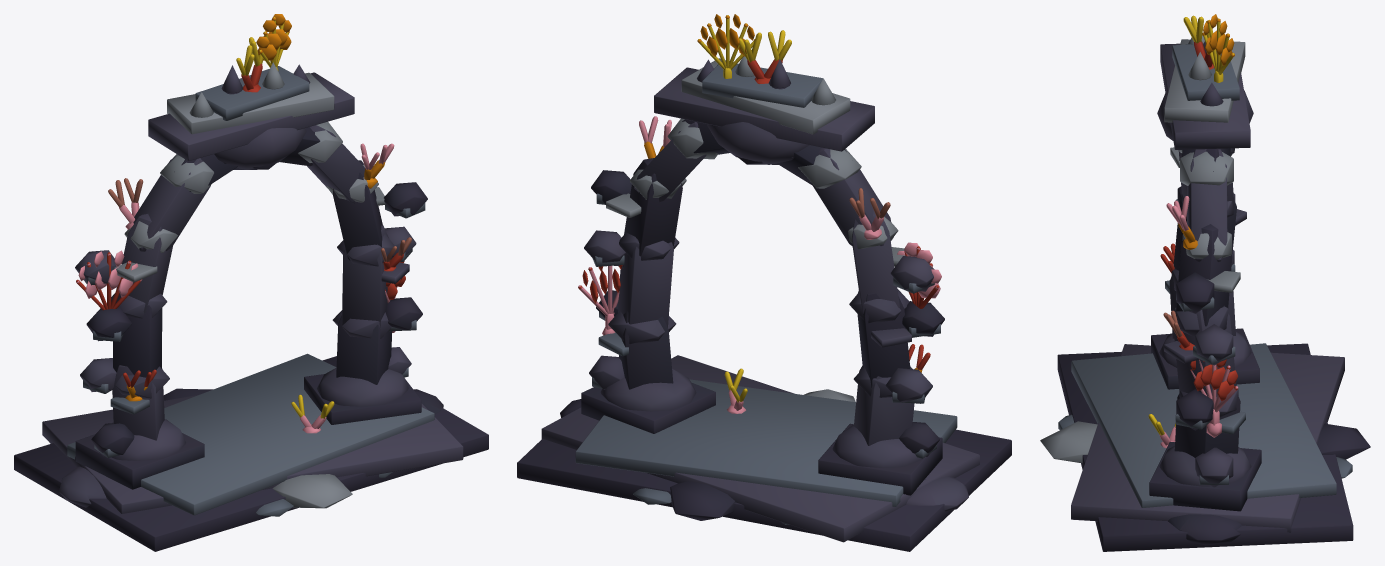
File: coral_arch.glb
3 views of the same model, side by side, from view 1: azimuth 30°, elevation 25°; view 2: azimuth 150°, elevation 25°; view 3: azimuth 270°, elevation 25° (orthographic). The views are drawn at different scales.
Parts seen in each view (by area): view 1: coral_arch; view 2: coral_arch; view 3: coral_arch.
Part boxes in pixels (<box>): coral_arch: <box>14,14,488,551</box>; coral_arch: <box>517,14,1011,551</box>; coral_arch: <box>1040,14,1370,551</box>.
Bounding box in the file's own units: 15.61 × 17.13 × 11.29.
